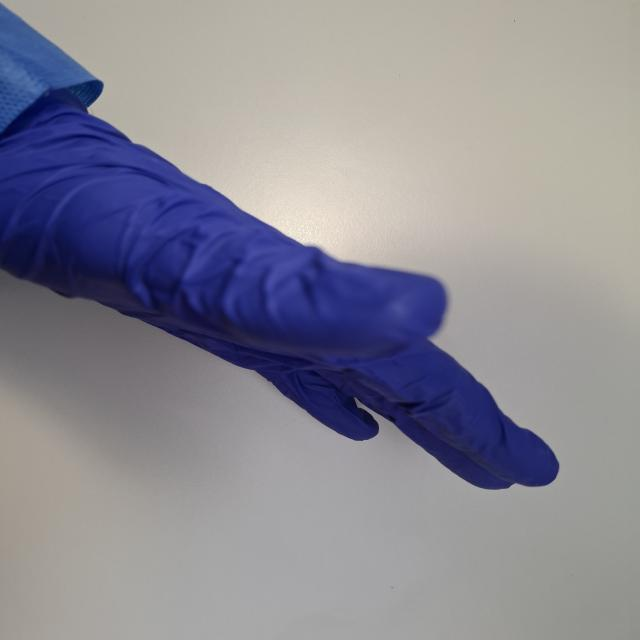glove_on: (0, 82, 567, 493)
